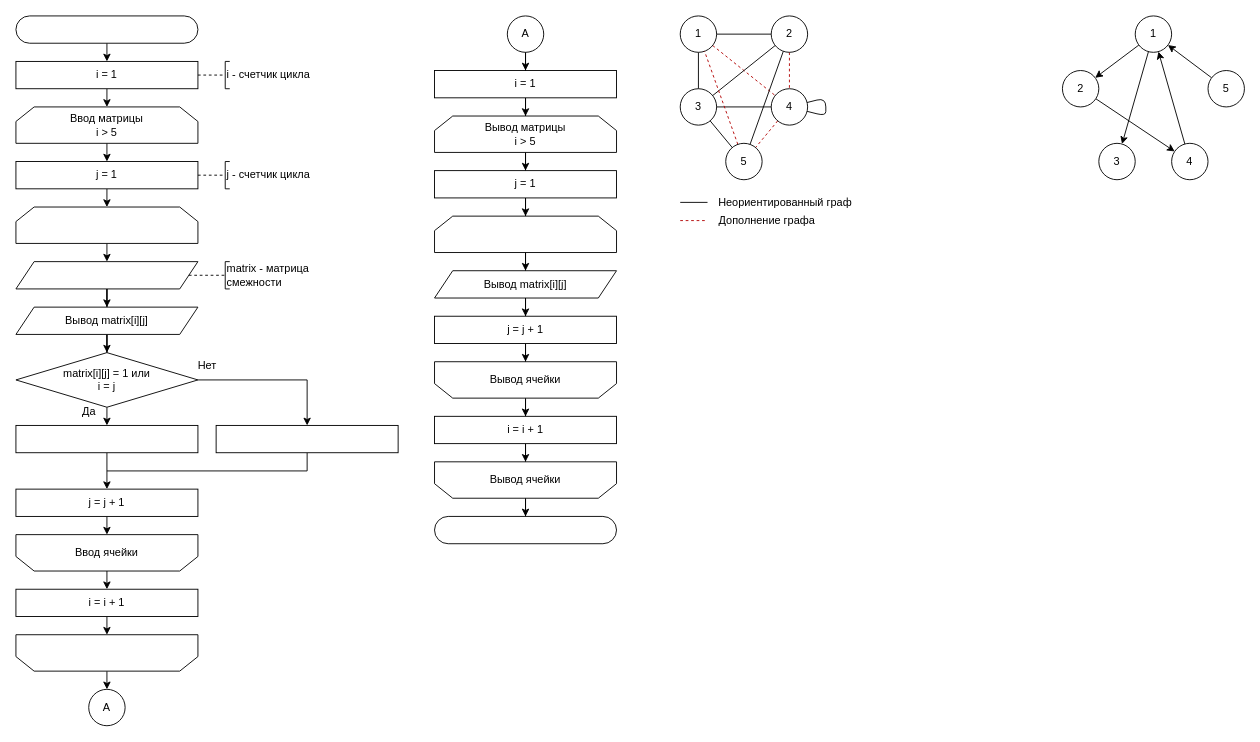
Some shapes in this 1260 by 742 pixel diagram are drawn without their labels. The box of each missing label's shape, as (x1, y1, x2, y2) in pixels:
matrix[i][j] = 0: (15, 425, 198, 453)
matrix[i][j] = 1: (215, 425, 398, 453)
Ввод matrix[i][j]: (15, 261, 198, 289)
Ввод матрицы: (15, 634, 198, 671)
Ввод ячейки j > 5: (15, 206, 198, 243)
Вывод ячейки j > 5: (434, 215, 617, 253)
Конец: (434, 516, 617, 544)
Начало: (15, 15, 198, 43)
